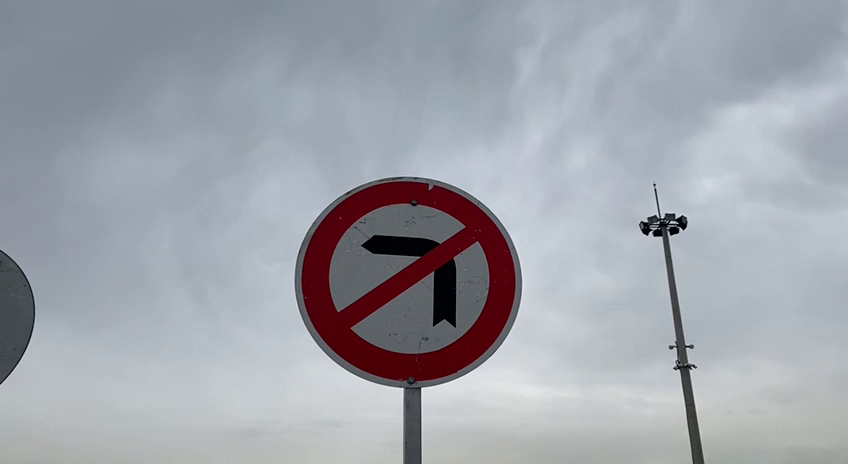noTurnLeft: (286, 171, 527, 394)
